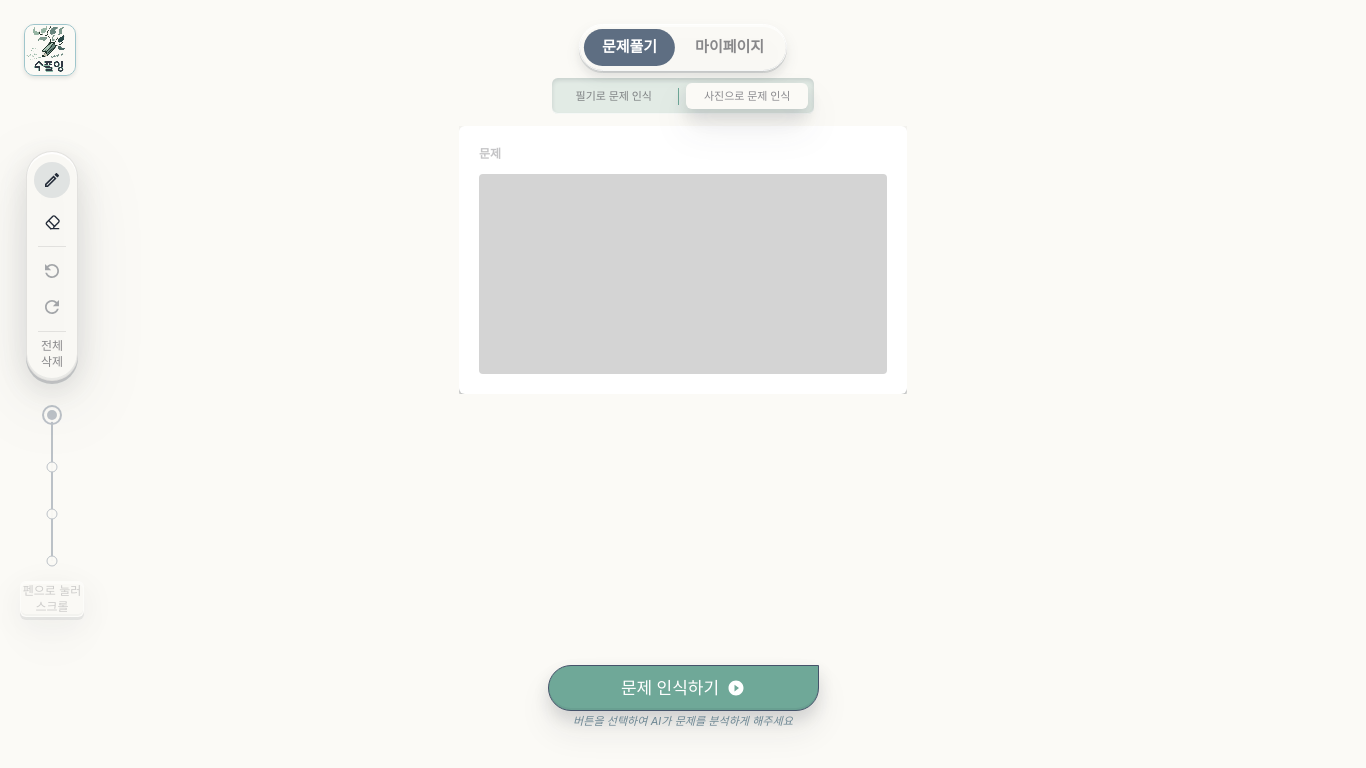
Test: SolvePencilcanvasPage — 사진 메뉴가 열린 동안 바깥 탭 흡수(QA) › scrim이 ActionBar까지 덮도록 메뉴가 든 토글 래퍼(z-[1])와 ActionBar 래퍼가 같은 z-10 컨테이너 안에 있고, 이 컨테이너가 DOM상 마지막 z-10 오버레이다
Click the button "사진으로 문제 인식". click: {"x": 747, "y": 96}
box: [686, 83, 808, 109]
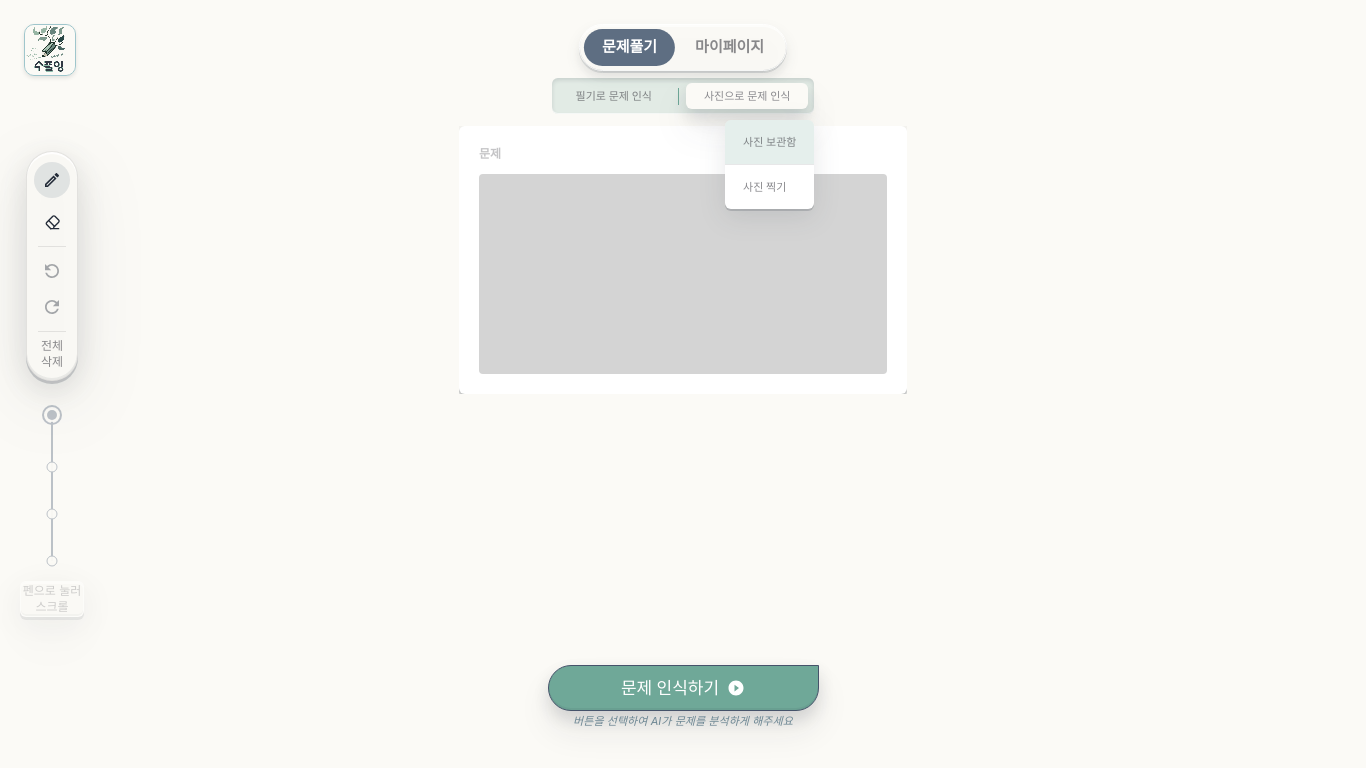
Expected: the menu is shown, [725, 120, 814, 209]
